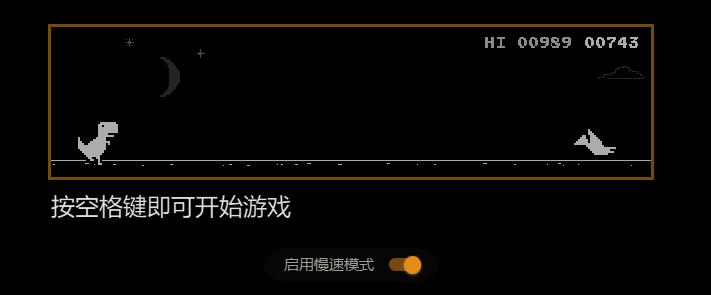bird: (573, 128, 617, 156)
dino: (75, 121, 119, 166)
